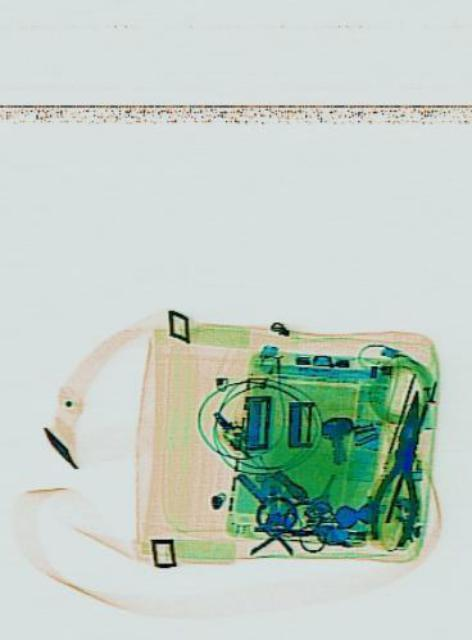Pliers: (362, 382, 437, 550)
